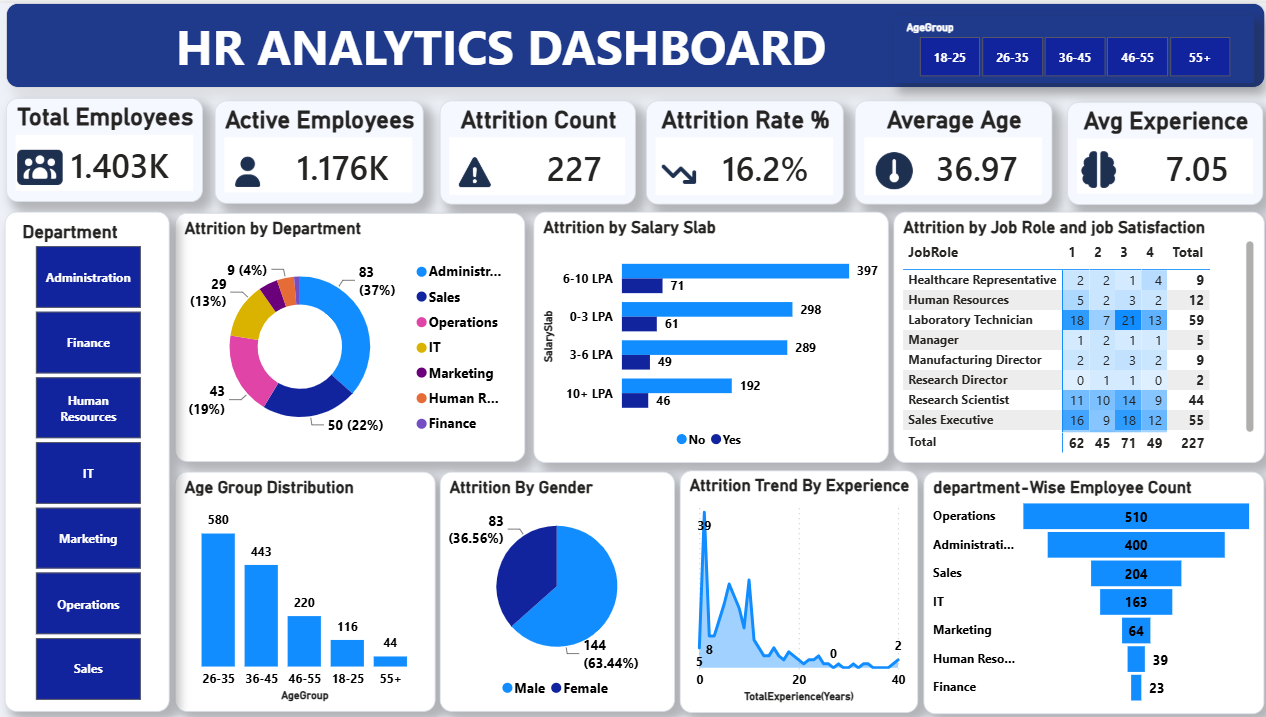

The page's visual inventory and layout, read from the dashboard file:
{"tool":"powerbi","page":{"name":"Page 1","canvas":[1280,720],"ordinal":0},"visuals":[{"type":"textbox","box":[10,0,1259,85],"z":0},{"type":"cardVisual","title":"Total Employees","fields":{"Data":["CountNonNull(HR_Analytics-4.EmpID)"]},"box":[10,95,197,104],"z":1000},{"type":"cardVisual","title":"Active Employees","fields":{"Data":["CountNonNull(HR_Analytics-4.EmployeeCount)"]},"box":[218.2,97.4,208.6,102.9],"z":2000},{"type":"cardVisual","title":"Attrition Count","fields":{"Data":["Sum(HR_Analytics-4.AttritionCount)"]},"box":[443.2,97.4,196.2,104.3],"z":3000},{"type":"cardVisual","title":"Attrition Rate %","fields":{"Data":["HR_Analytics-4.Attrition Rate %"]},"box":[650.4,97.4,197.6,104.3],"z":4000},{"type":"cardVisual","title":"Average Age","fields":{"Data":["Avg(HR_Analytics-4.Age)"]},"box":[859,97.4,197.6,104.3],"z":5000},{"type":"cardVisual","title":"Avg Experience","fields":{"Data":["Avg(HR_Analytics-4.YearsatCompany)"]},"box":[1071.7,98.8,196.2,102.9],"z":6000},{"type":"donutChart","title":"Attrition by Department","fields":{"Category":["HR_Analytics-4.Department"],"Y":["Sum(HR_Analytics-4.AttritionCount)"]},"box":[179,210,350,249],"z":7000},{"type":"clusteredBarChart","title":"Attrition by Salary Slab","fields":{"Category":["HR_Analytics-4.SalarySlab"],"Y":["CountNonNull(HR_Analytics-4.EmpID)"],"Series":["HR_Analytics-4.Attrition"]},"box":[537,209,355,251],"z":8000},{"type":"pivotTable","title":"Attrition by Job Role and job Satisfaction","fields":{"Rows":["HR_Analytics-4.JobRole"],"Values":["Sum(HR_Analytics-4.AttritionCount)"],"Columns":["HR_Analytics-4.JobSatisfaction"]},"box":[898,209,371,251],"z":9000},{"type":"columnChart","title":"Age Group Distribution","fields":{"Y":["Sum(HR_Analytics-4.EmployeeCount)"],"Category":["HR_Analytics-4.AgeGroup"]},"box":[179,469,261,240],"z":10000},{"type":"pieChart","title":"Attrition By Gender","fields":{"Category":["HR_Analytics-4.Gender"],"Y":["Sum(HR_Analytics-4.AttritionCount)"]},"box":[443.8,468.8,235,240],"z":11000},{"type":"areaChart","title":"Attrition Trend By Experience","fields":{"Category":["HR_Analytics-4.TotalExperience(Years)"],"Y2":["Sum(HR_Analytics-4.AttritionCount)"]},"box":[684,468,238.8,242.5],"z":12000},{"type":"funnel","title":"department-Wise Employee Count","fields":{"Category":["HR_Analytics-4.Department"],"Y":["CountNonNull(HR_Analytics-4.EmpID)"]},"box":[928,469,341,242],"z":13000},{"type":"slicer","fields":{"Values":["HR_Analytics-4.Department"]},"box":[9,209,165,500],"z":14000},{"type":"slicer","fields":{"Values":["HR_Analytics-4.AgeGroup"]},"box":[898,12,361,68],"z":15000},{"type":"image","box":[231.2,140,52.5,48.8],"z":16000},{"type":"image","box":[25,127.5,66.2,71.2],"z":17000},{"type":"image","box":[457.5,144,52.5,48.8],"z":18000},{"type":"image","box":[662.5,142.5,52.5,48.8],"z":19000},{"type":"image","box":[875,142.5,52.5,48.8],"z":20000},{"type":"image","box":[1083.8,144,52.5,48.8],"z":21000}]}

Visuals, with their boxes in screenshot pixels (x1, y1, x2, y2), scaled from the page's 1280x720 canvas onto the 1266x717 screenshot:
textbox: x1=10, y1=0, x2=1255, y2=85
"Total Employees" cardVisual: x1=10, y1=95, x2=205, y2=198
"Active Employees" cardVisual: x1=216, y1=97, x2=422, y2=199
"Attrition Count" cardVisual: x1=438, y1=97, x2=632, y2=201
"Attrition Rate %" cardVisual: x1=643, y1=97, x2=839, y2=201
"Average Age" cardVisual: x1=850, y1=97, x2=1045, y2=201
"Avg Experience" cardVisual: x1=1060, y1=98, x2=1254, y2=201
"Attrition by Department" donutChart: x1=177, y1=209, x2=523, y2=457
"Attrition by Salary Slab" clusteredBarChart: x1=531, y1=208, x2=882, y2=458
"Attrition by Job Role and job Satisfaction" pivotTable: x1=888, y1=208, x2=1255, y2=458
"Age Group Distribution" columnChart: x1=177, y1=467, x2=435, y2=706
"Attrition By Gender" pieChart: x1=439, y1=467, x2=671, y2=706
"Attrition Trend By Experience" areaChart: x1=677, y1=466, x2=913, y2=708
"department-Wise Employee Count" funnel: x1=918, y1=467, x2=1255, y2=708
slicer - HR_Analytics-4.Department: x1=9, y1=208, x2=172, y2=706
slicer - HR_Analytics-4.AgeGroup: x1=888, y1=12, x2=1245, y2=80
image: x1=229, y1=139, x2=281, y2=188
image: x1=25, y1=127, x2=90, y2=198
image: x1=452, y1=143, x2=504, y2=192
image: x1=655, y1=142, x2=707, y2=191
image: x1=865, y1=142, x2=917, y2=191
image: x1=1072, y1=143, x2=1124, y2=192
